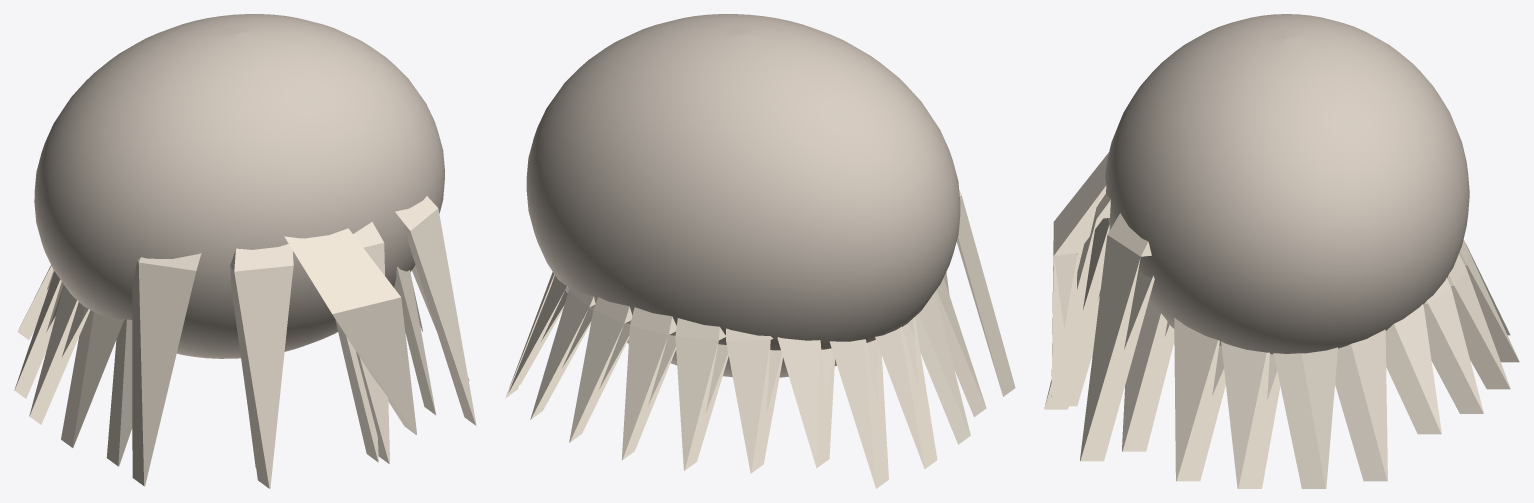
Rendered from pawn-head-02_hair-v0.0.11.glb.
3 views of the same model, side by side, from view 1: azimuth 30°, elevation 25°; view 2: azimuth 150°, elevation 25°; view 3: azimuth 270°, elevation 25° (orthographic). The views are drawn at different scales.
Parts seen in each view (by area): view 1: Hair_crown_under_helmet, Hair_signature_front_bang, Hair_carved_lock_21, Hair_carved_lock_19, Hair_carved_lock_02, Hair_carved_lock_17, Hair_carved_lock_16, Hair_carved_lock_18, Hair_carved_lock_00, Hair_carved_lock_03, Hair_carved_lock_15, Hair_carved_lock_01 (+1 smaller); view 2: Hair_crown_under_helmet, Hair_carved_lock_12, Hair_carved_lock_13, Hair_carved_lock_11, Hair_carved_lock_15, Hair_carved_lock_14, Hair_carved_lock_16, Hair_carved_lock_10, Hair_carved_lock_17, Hair_carved_lock_19, Hair_carved_lock_09, Hair_carved_lock_18 (+1 smaller); view 3: Hair_crown_under_helmet, Hair_carved_lock_02, Hair_signature_front_bang, Hair_carved_lock_04, Hair_carved_lock_06, Hair_carved_lock_05, Hair_carved_lock_07, Hair_carved_lock_03, Hair_carved_lock_08, Hair_carved_lock_09, Hair_carved_lock_10, Hair_carved_lock_00 (+2 smaller).
Part boxes in pixels (bbox=[...]): Hair_crown_under_helmet: bbox=[34, 14, 444, 358]; Hair_signature_front_bang: bbox=[284, 228, 416, 434]; Hair_carved_lock_21: bbox=[230, 244, 293, 488]; Hair_carved_lock_19: bbox=[132, 253, 201, 486]; Hair_carved_lock_02: bbox=[395, 196, 476, 425]; Hair_carved_lock_17: bbox=[61, 306, 124, 447]; Hair_carved_lock_16: bbox=[29, 285, 90, 424]; Hair_carved_lock_18: bbox=[106, 319, 132, 466]; Hair_carved_lock_00: bbox=[353, 222, 389, 463]; Hair_carved_lock_03: bbox=[394, 266, 435, 414]; Hair_carved_lock_15: bbox=[14, 271, 63, 398]; Hair_carved_lock_01: bbox=[335, 319, 378, 462]; Hair_crown_under_helmet: bbox=[526, 14, 960, 377]; Hair_carved_lock_12: bbox=[675, 318, 728, 470]; Hair_carved_lock_13: bbox=[726, 328, 782, 473]; Hair_carved_lock_11: bbox=[621, 307, 676, 460]; Hair_carved_lock_15: bbox=[829, 339, 888, 488]; Hair_carved_lock_14: bbox=[777, 337, 834, 468]; Hair_carved_lock_16: bbox=[875, 317, 937, 468]; Hair_carved_lock_10: bbox=[569, 297, 632, 442]; Hair_carved_lock_17: bbox=[908, 292, 970, 444]; Hair_carved_lock_19: bbox=[956, 190, 1015, 396]; Hair_carved_lock_09: bbox=[530, 287, 595, 419]; Hair_carved_lock_18: bbox=[935, 278, 986, 417]; Hair_crown_under_helmet: bbox=[1105, 14, 1469, 354]; Hair_carved_lock_02: bbox=[1080, 213, 1154, 461]; Hair_signature_front_bang: bbox=[1051, 152, 1108, 405]; Hair_carved_lock_04: bbox=[1174, 318, 1225, 481]; Hair_carved_lock_06: bbox=[1273, 347, 1337, 488]; Hair_carved_lock_05: bbox=[1221, 341, 1280, 488]; Hair_carved_lock_07: bbox=[1335, 329, 1387, 481]; Hair_carved_lock_03: bbox=[1122, 302, 1174, 451]; Hair_carved_lock_08: bbox=[1385, 304, 1441, 434]; Hair_carved_lock_09: bbox=[1423, 278, 1483, 413]; Hair_carved_lock_10: bbox=[1447, 254, 1510, 389]; Hair_carved_lock_00: bbox=[1044, 194, 1110, 409].
Bounding box in the file's own units: 0.1881 × 0.165 × 0.2.
